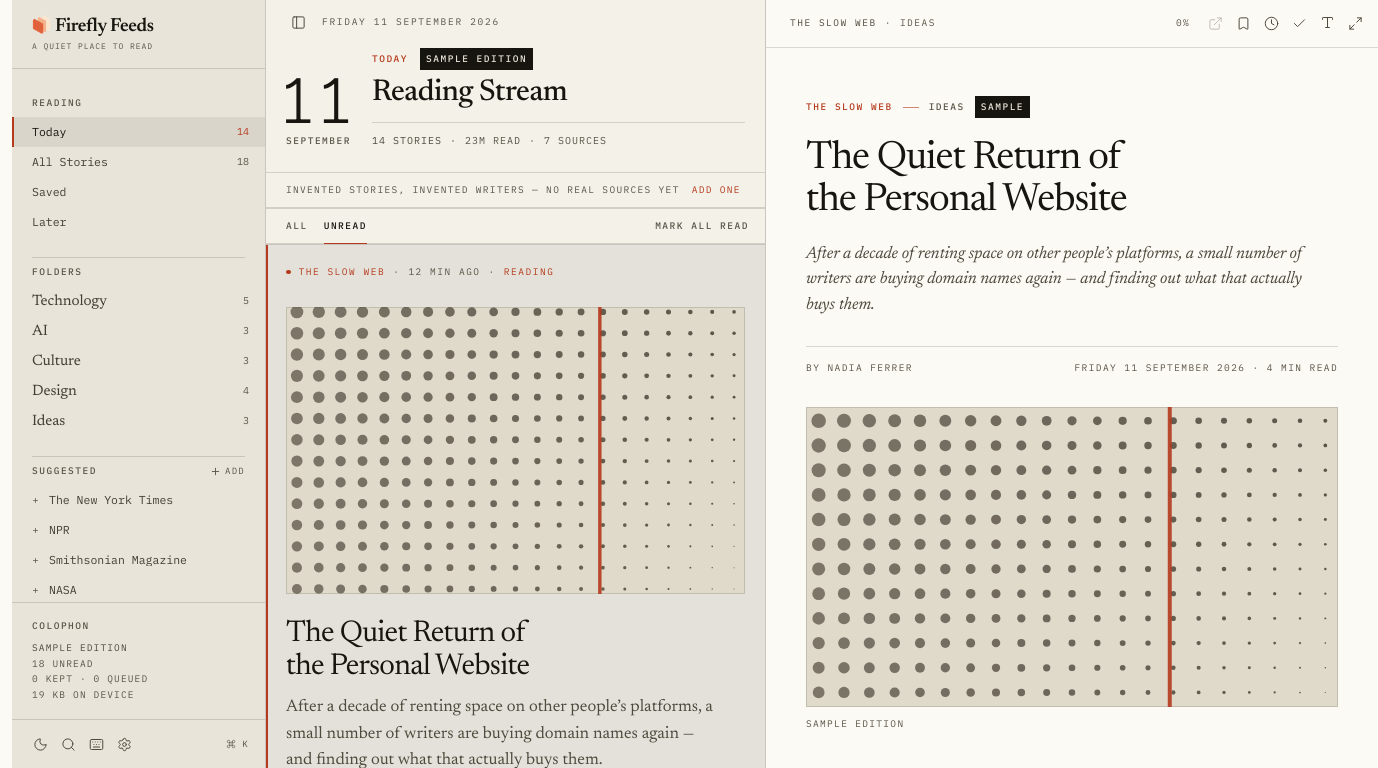
Test: columns › filters the column to unread only
This screenshot has width=1378, height=768.
expect the heading "Reading Stream" is shown: met, box [372,78,567,108]
Click the button "Unread".
click(345, 226)  # box [324,209,367,243]
(page scrolled)
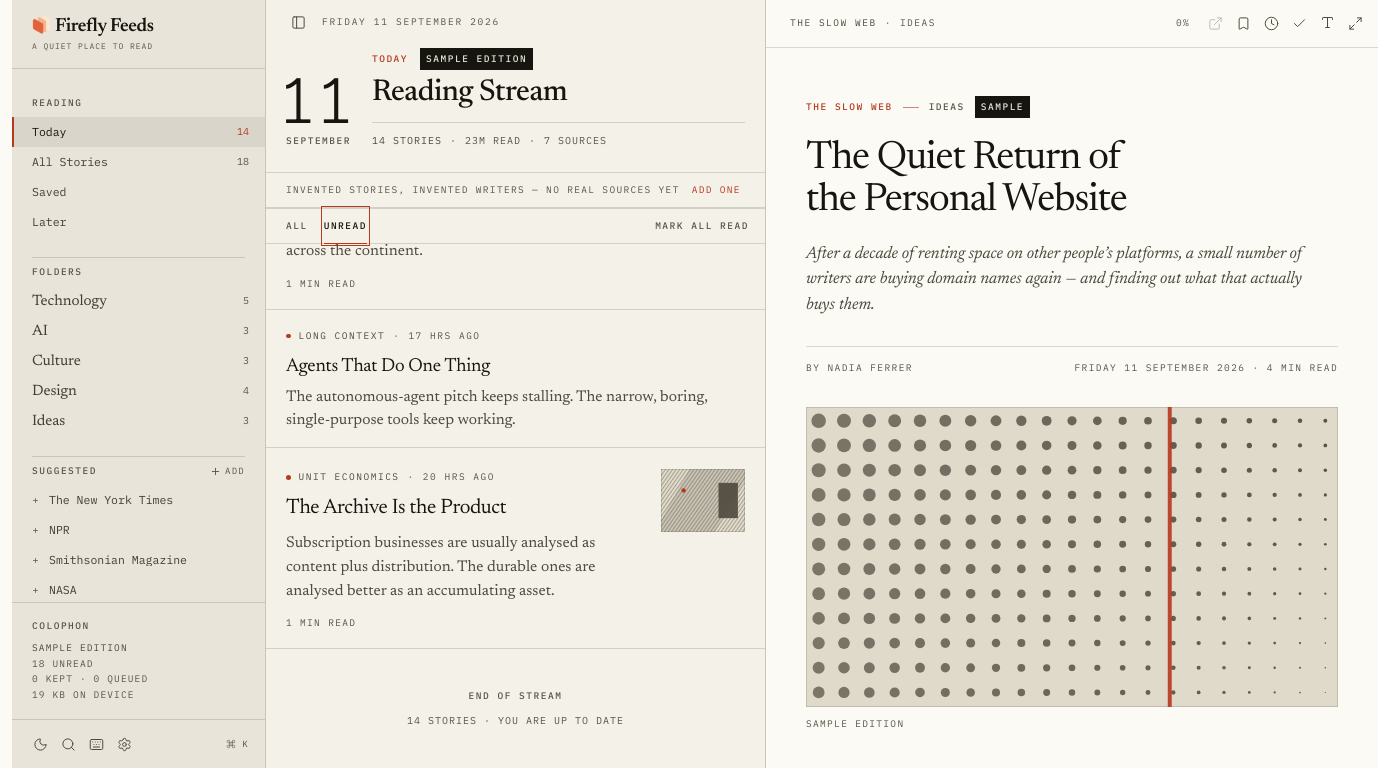
expect the button that starts with "Long Context" is shown: met, box [266,309,765,448]
expect the button that starts with "Unit Economics" is shown: met, box [266,447,765,648]
